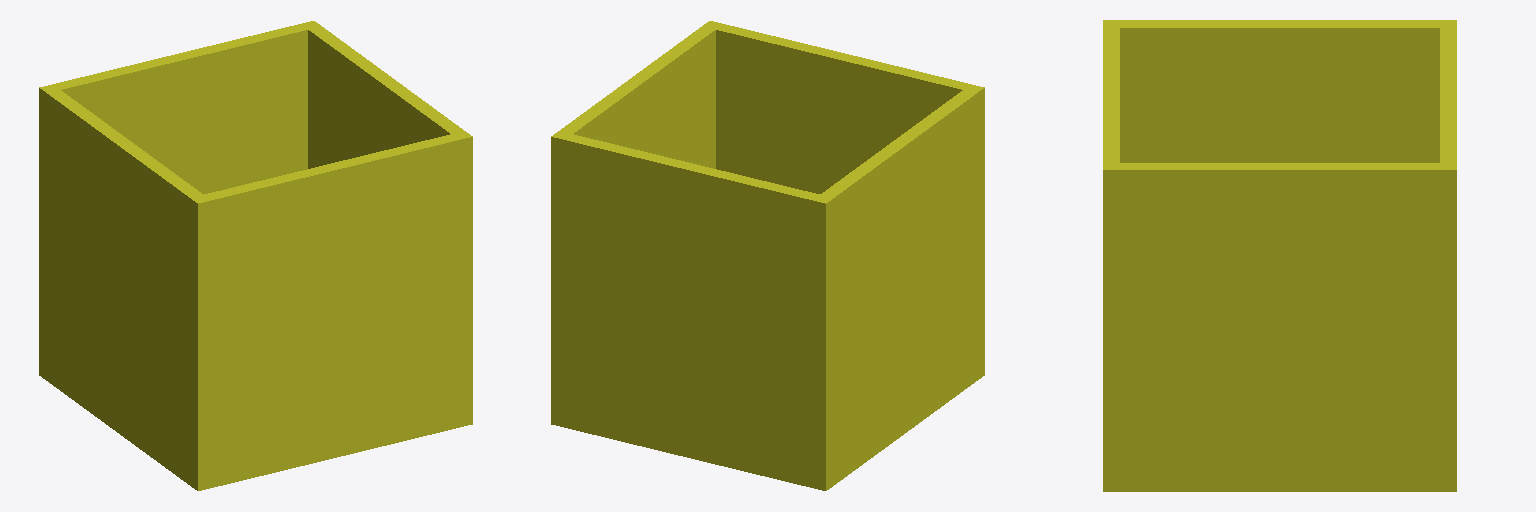
The robot description file, URDF, robot "container_open":
<?xml version="1.0"?>
<robot name="container_open">
  <material name="box_mat">
    <color rgba="0.8 0.8 0.2 1.0"/>
  </material>

  <link name="base_link">
    <inertial>
      <mass value="0.5"/>
      <origin xyz="0 0 0.1" rpy="0 0 0"/>
      <inertia ixx="0.005" ixy="0" ixz="0" iyy="0.005" iyz="0" izz="0.005"/>
    </inertial>
    
    <!-- Bottom -->
    <visual>
      <origin xyz="0 0 0.005" rpy="0 0 0"/>
      <geometry><box size="0.2 0.2 0.01"/></geometry>
      <material name="box_mat"/>
    </visual>
    <collision>
      <origin xyz="0 0 0.005" rpy="0 0 0"/>
      <geometry><box size="0.2 0.2 0.01"/></geometry>
    </collision>

    <!-- Front -->
    <visual>
      <origin xyz="0 0.095 0.1" rpy="0 0 0"/>
      <geometry><box size="0.2 0.01 0.2"/></geometry>
      <material name="box_mat"/>
    </visual>
    <collision>
      <origin xyz="0 0.095 0.1" rpy="0 0 0"/>
      <geometry><box size="0.2 0.01 0.2"/></geometry>
    </collision>

    <!-- Back -->
    <visual>
      <origin xyz="0 -0.095 0.1" rpy="0 0 0"/>
      <geometry><box size="0.2 0.01 0.2"/></geometry>
      <material name="box_mat"/>
    </visual>
    <collision>
      <origin xyz="0 -0.095 0.1" rpy="0 0 0"/>
      <geometry><box size="0.2 0.01 0.2"/></geometry>
    </collision>

    <!-- Left -->
    <visual>
      <origin xyz="-0.095 0 0.1" rpy="0 0 0"/>
      <geometry><box size="0.01 0.18 0.2"/></geometry>
      <material name="box_mat"/>
    </visual>
    <collision>
      <origin xyz="-0.095 0 0.1" rpy="0 0 0"/>
      <geometry><box size="0.01 0.18 0.2"/></geometry>
    </collision>

    <!-- Right -->
    <visual>
      <origin xyz="0.095 0 0.1" rpy="0 0 0"/>
      <geometry><box size="0.01 0.18 0.2"/></geometry>
      <material name="box_mat"/>
    </visual>
    <collision>
      <origin xyz="0.095 0 0.1" rpy="0 0 0"/>
      <geometry><box size="0.01 0.18 0.2"/></geometry>
    </collision>
  </link>
</robot>

--- Facts derived from the render (not from the file) ---
Views: 3 orthographic renders of the robot side by side, from view 1: azimuth 30°, elevation 25°; view 2: azimuth 150°, elevation 25°; view 3: azimuth 270°, elevation 25°.
Model container_open with 1 links and 0 joints (none), rooted at base_link, posed every joint at zero.
Visible links, largest first — view 1: base_link; view 2: base_link; view 3: base_link.
Boxes of the visible links, x1,y1,x2,y2 form: base_link: (39, 21, 472, 490); base_link: (551, 21, 984, 490); base_link: (1103, 20, 1456, 491).
Bounding box of the posed robot: 0.2 × 0.2 × 0.2 m (x, y, z).
Geometry: primitives only (box / cylinder / sphere), no mesh files.
